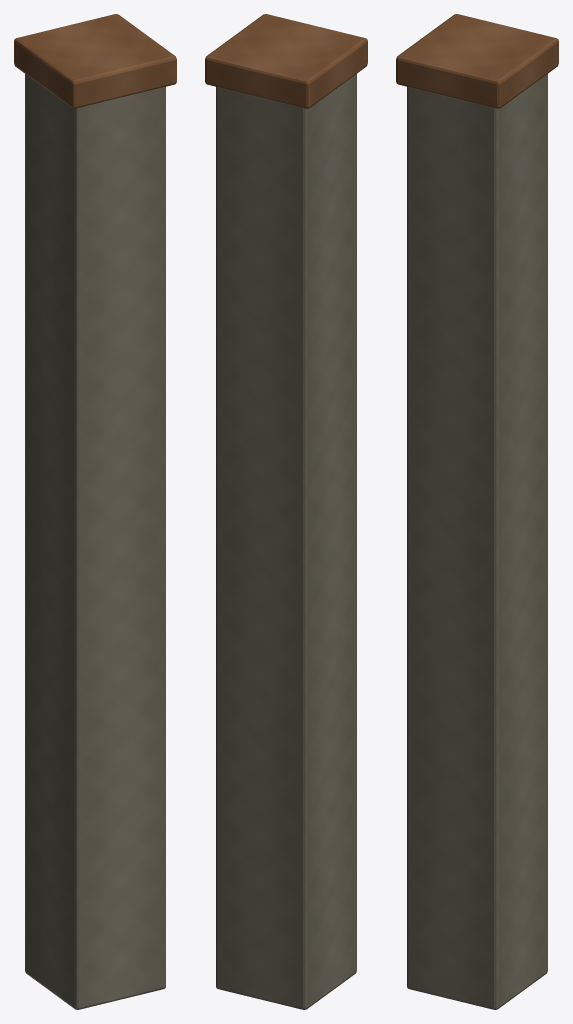
The model's file is MRP_RailingPost_Corner.fbx.
3 renders of one model, left to right at view 1: azimuth 30°, elevation 25°; view 2: azimuth 150°, elevation 25°; view 3: azimuth 330°, elevation 25°, orthographic.
Parts seen in each view (by area): view 1: Body; view 2: Body; view 3: Body.
Part boxes in pixels (<box>): Body: <box>14,14,176,1009</box>; Body: <box>205,14,367,1009</box>; Body: <box>396,14,558,1009</box>.
Size of the model in its own units: 0.115 by 0.98 by 0.115.
